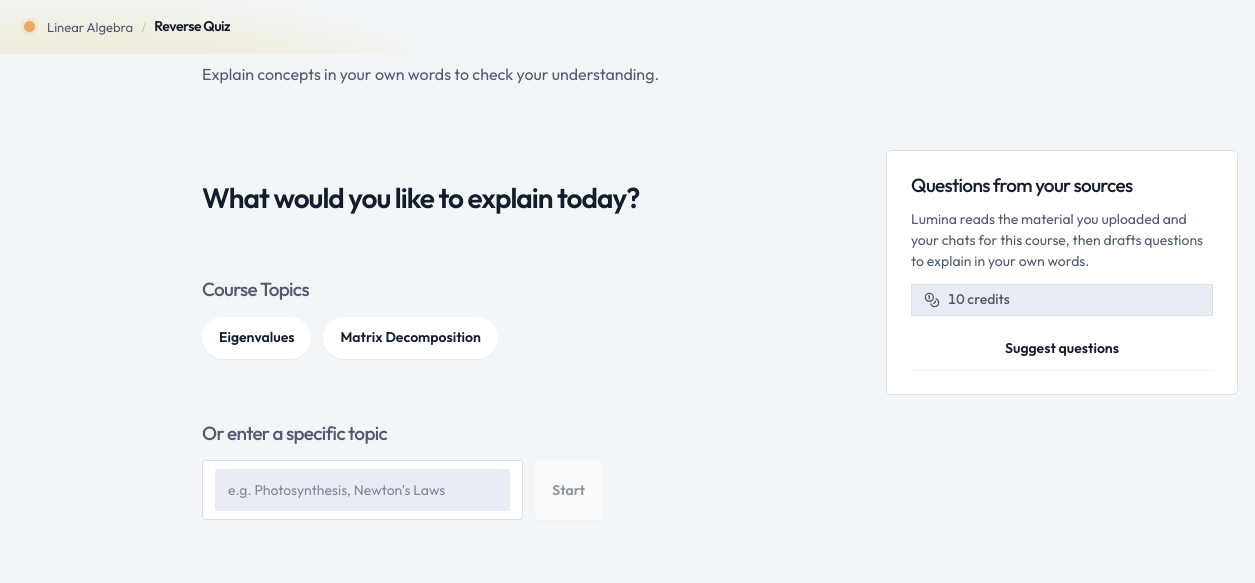
ReverseQuizPage › explains a failure when questions cannot be drafted
Click the button "Suggest questions" at (1062, 349), box [911,328,1213,370]
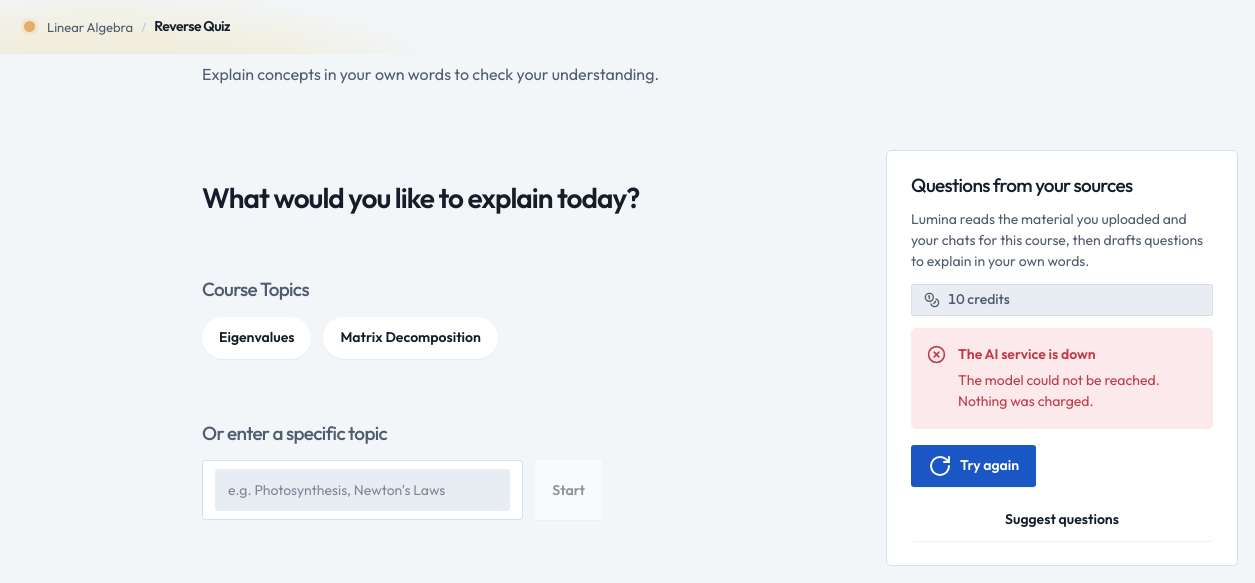
Expected: the text "The AI service is down" is shown, [958,345,1096,363]
